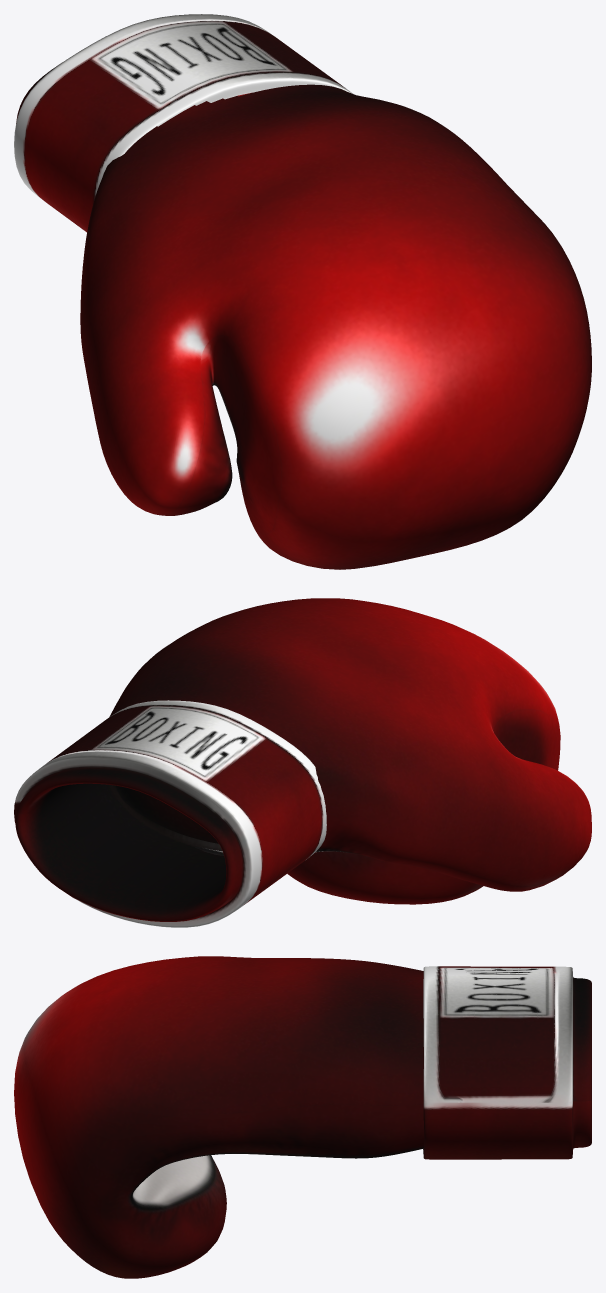
The model's file is punch2.fbx.
The picture shows the model from 3 angles, top to bottom: view 1: azimuth 30°, elevation 25°; view 2: azimuth 150°, elevation 25°; view 3: azimuth 270°, elevation 25°; orthographic projection. The views are drawn at different scales.
Visible parts, largest first — view 1: _Leather_Boxing_Gloves_V1_L3:Leather_Boxing_Gloves_V1; view 2: _Leather_Boxing_Gloves_V1_L3:Leather_Boxing_Gloves_V1; view 3: _Leather_Boxing_Gloves_V1_L3:Leather_Boxing_Gloves_V1.
Part boxes in pixels (box(x1,y1,x2,y2)): _Leather_Boxing_Gloves_V1_L3:Leather_Boxing_Gloves_V1: box(14, 14, 591, 569); _Leather_Boxing_Gloves_V1_L3:Leather_Boxing_Gloves_V1: box(14, 598, 591, 927); _Leather_Boxing_Gloves_V1_L3:Leather_Boxing_Gloves_V1: box(14, 956, 591, 1278).
Bounding box in the file's own units: 14.53 × 10.92 × 20.39.
